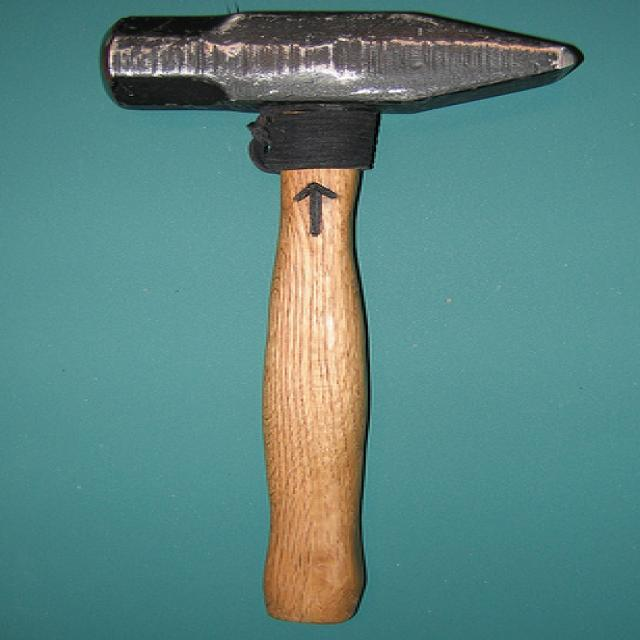hammer: (87, 2, 597, 628)
